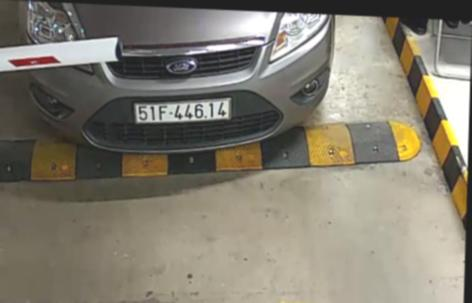License_Plate: (130, 94, 236, 130)
